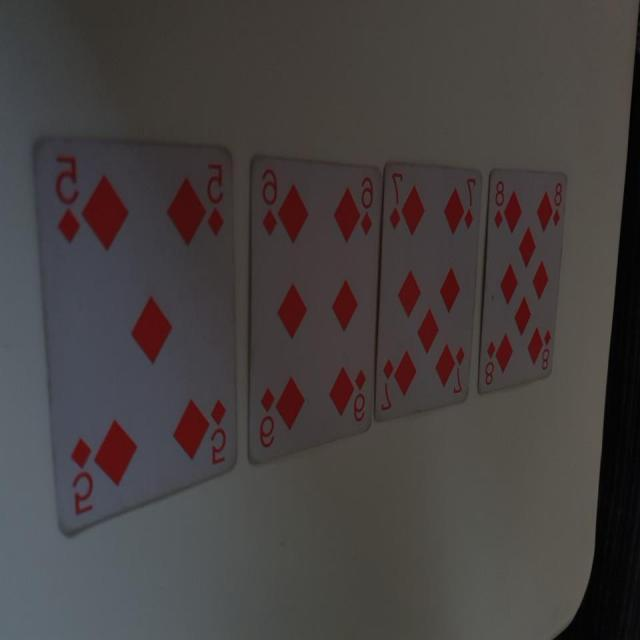5 of diamonds: (23, 130, 242, 542)
6 of diamonds: (244, 156, 384, 470)
7 of diamonds: (374, 168, 482, 425)
8 of diamonds: (476, 167, 570, 394)
